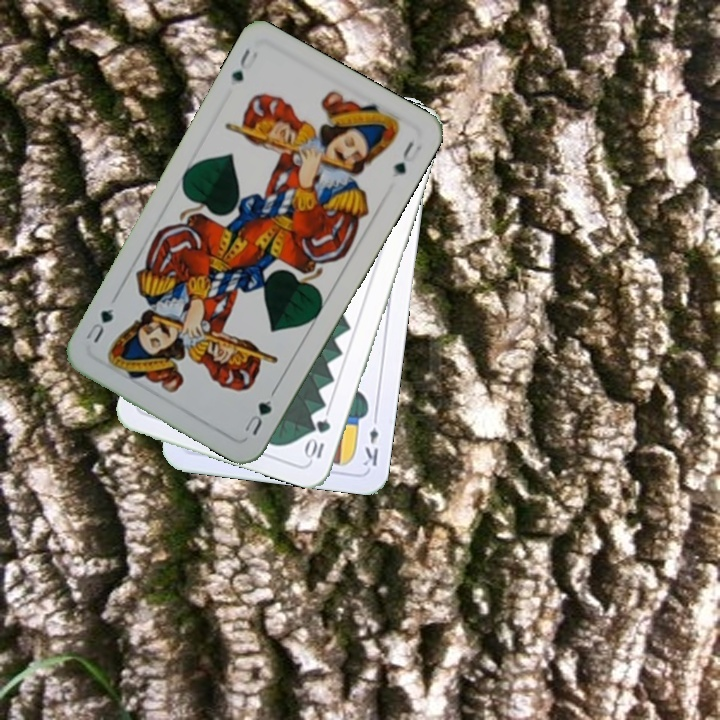EK: (359, 410, 381, 469)
G10: (302, 415, 333, 461)
GU: (240, 396, 275, 438), (227, 44, 261, 85)
